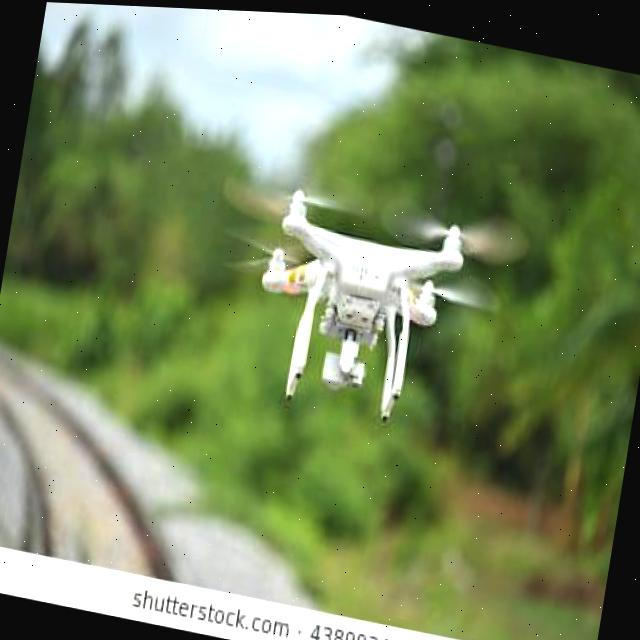drone: (182, 128, 544, 446)
